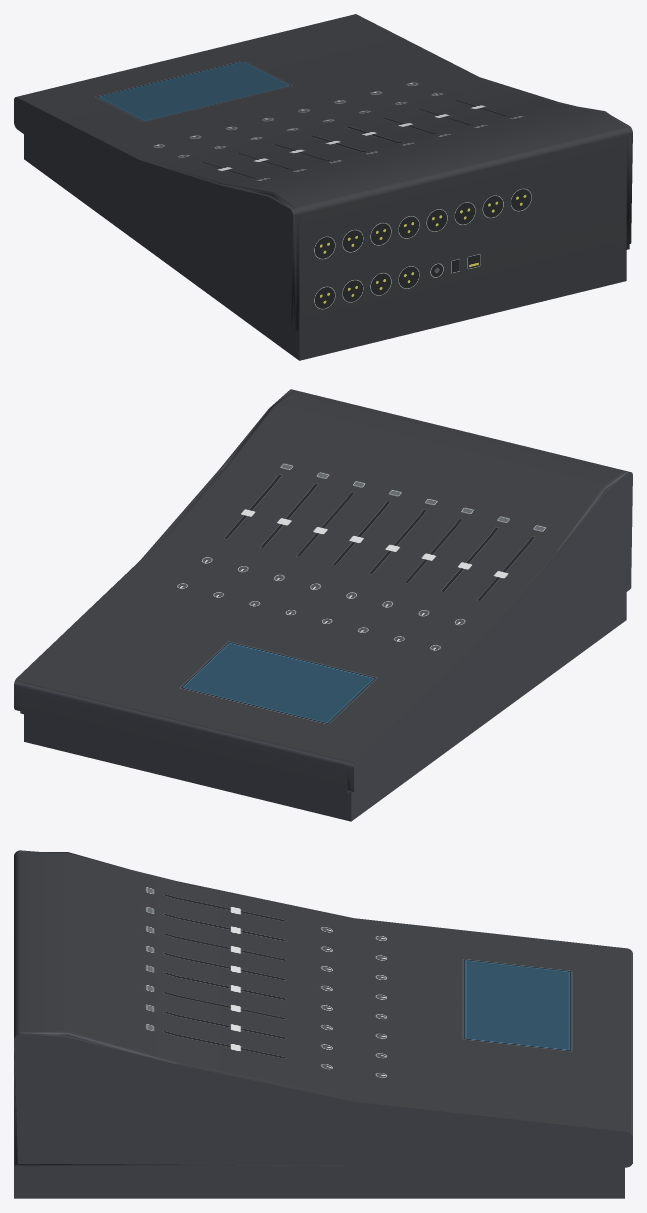
The model's file is yamaha-dm3.glb.
3 renders of one model, top to bottom at view 1: azimuth 30°, elevation 25°; view 2: azimuth 150°, elevation 25°; view 3: azimuth 270°, elevation 25°, orthographic. The views are drawn at different scales.
Visible parts, largest first — view 1: yamaha-dm3-body; view 2: yamaha-dm3-body; view 3: yamaha-dm3-body.
Part boxes in pixels (x1,y1,x2,y2): yamaha-dm3-body: (14, 14, 632, 360); yamaha-dm3-body: (14, 389, 632, 821); yamaha-dm3-body: (14, 850, 632, 1198).
Size of the model in its own units: 0.32 by 0.14 by 0.455.
Materials: 1 (1 with a texture image).
